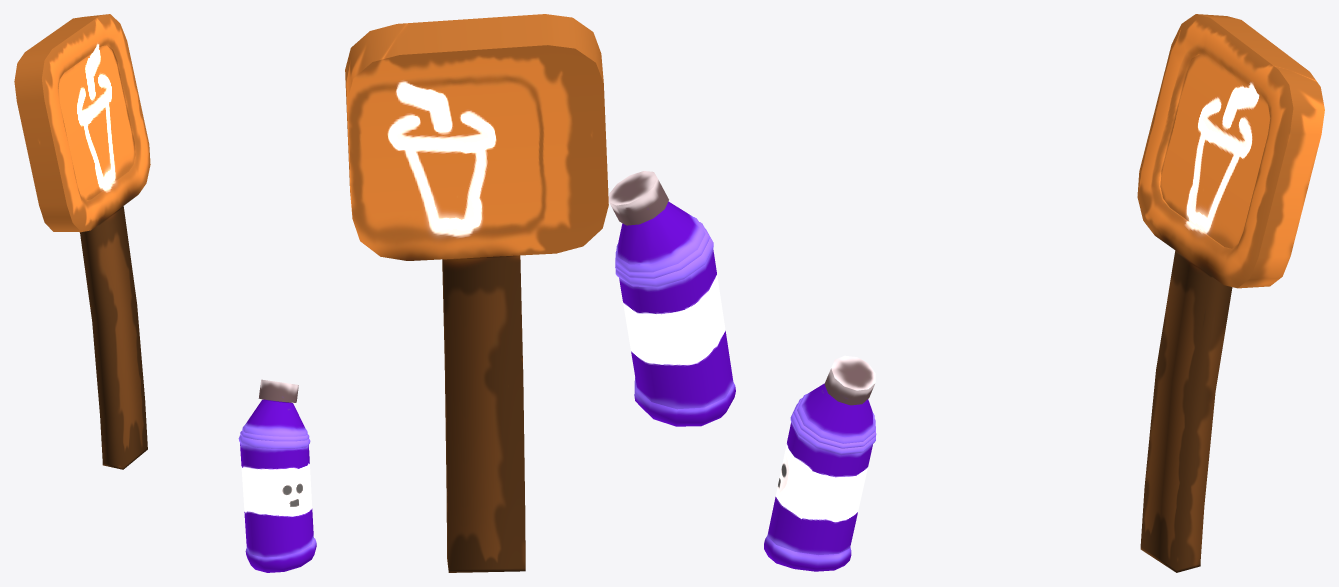
The model's file is Empty_Group_Drink_Lvl_00.fbx.
3 views of the same model, side by side, from view 1: azimuth 30°, elevation 25°; view 2: azimuth 150°, elevation 25°; view 3: azimuth 270°, elevation 25° (orthographic). The views are drawn at different scales.
Visible parts, largest first — view 1: Sign_Drink_StandLVL00, Drink_Bottle_StartProp_Lvl_00; view 2: Sign_Drink_StandLVL00, Drink_Bottle_StartProp_Lvl_00; view 3: Sign_Drink_StandLVL00, Drink_Bottle_StartProp_Lvl_00.
Part boxes in pixels (box(x1,y1,x2,y2)): Sign_Drink_StandLVL00: box(14, 14, 150, 469); Drink_Bottle_StartProp_Lvl_00: box(238, 379, 316, 572); Sign_Drink_StandLVL00: box(345, 14, 608, 572); Drink_Bottle_StartProp_Lvl_00: box(609, 171, 735, 426); Sign_Drink_StandLVL00: box(1137, 14, 1324, 572); Drink_Bottle_StartProp_Lvl_00: box(764, 355, 876, 571).
Bounding box in the file's own units: 0.2749 × 0.6992 × 0.7.
Materials: 2 (2 with a texture image).
